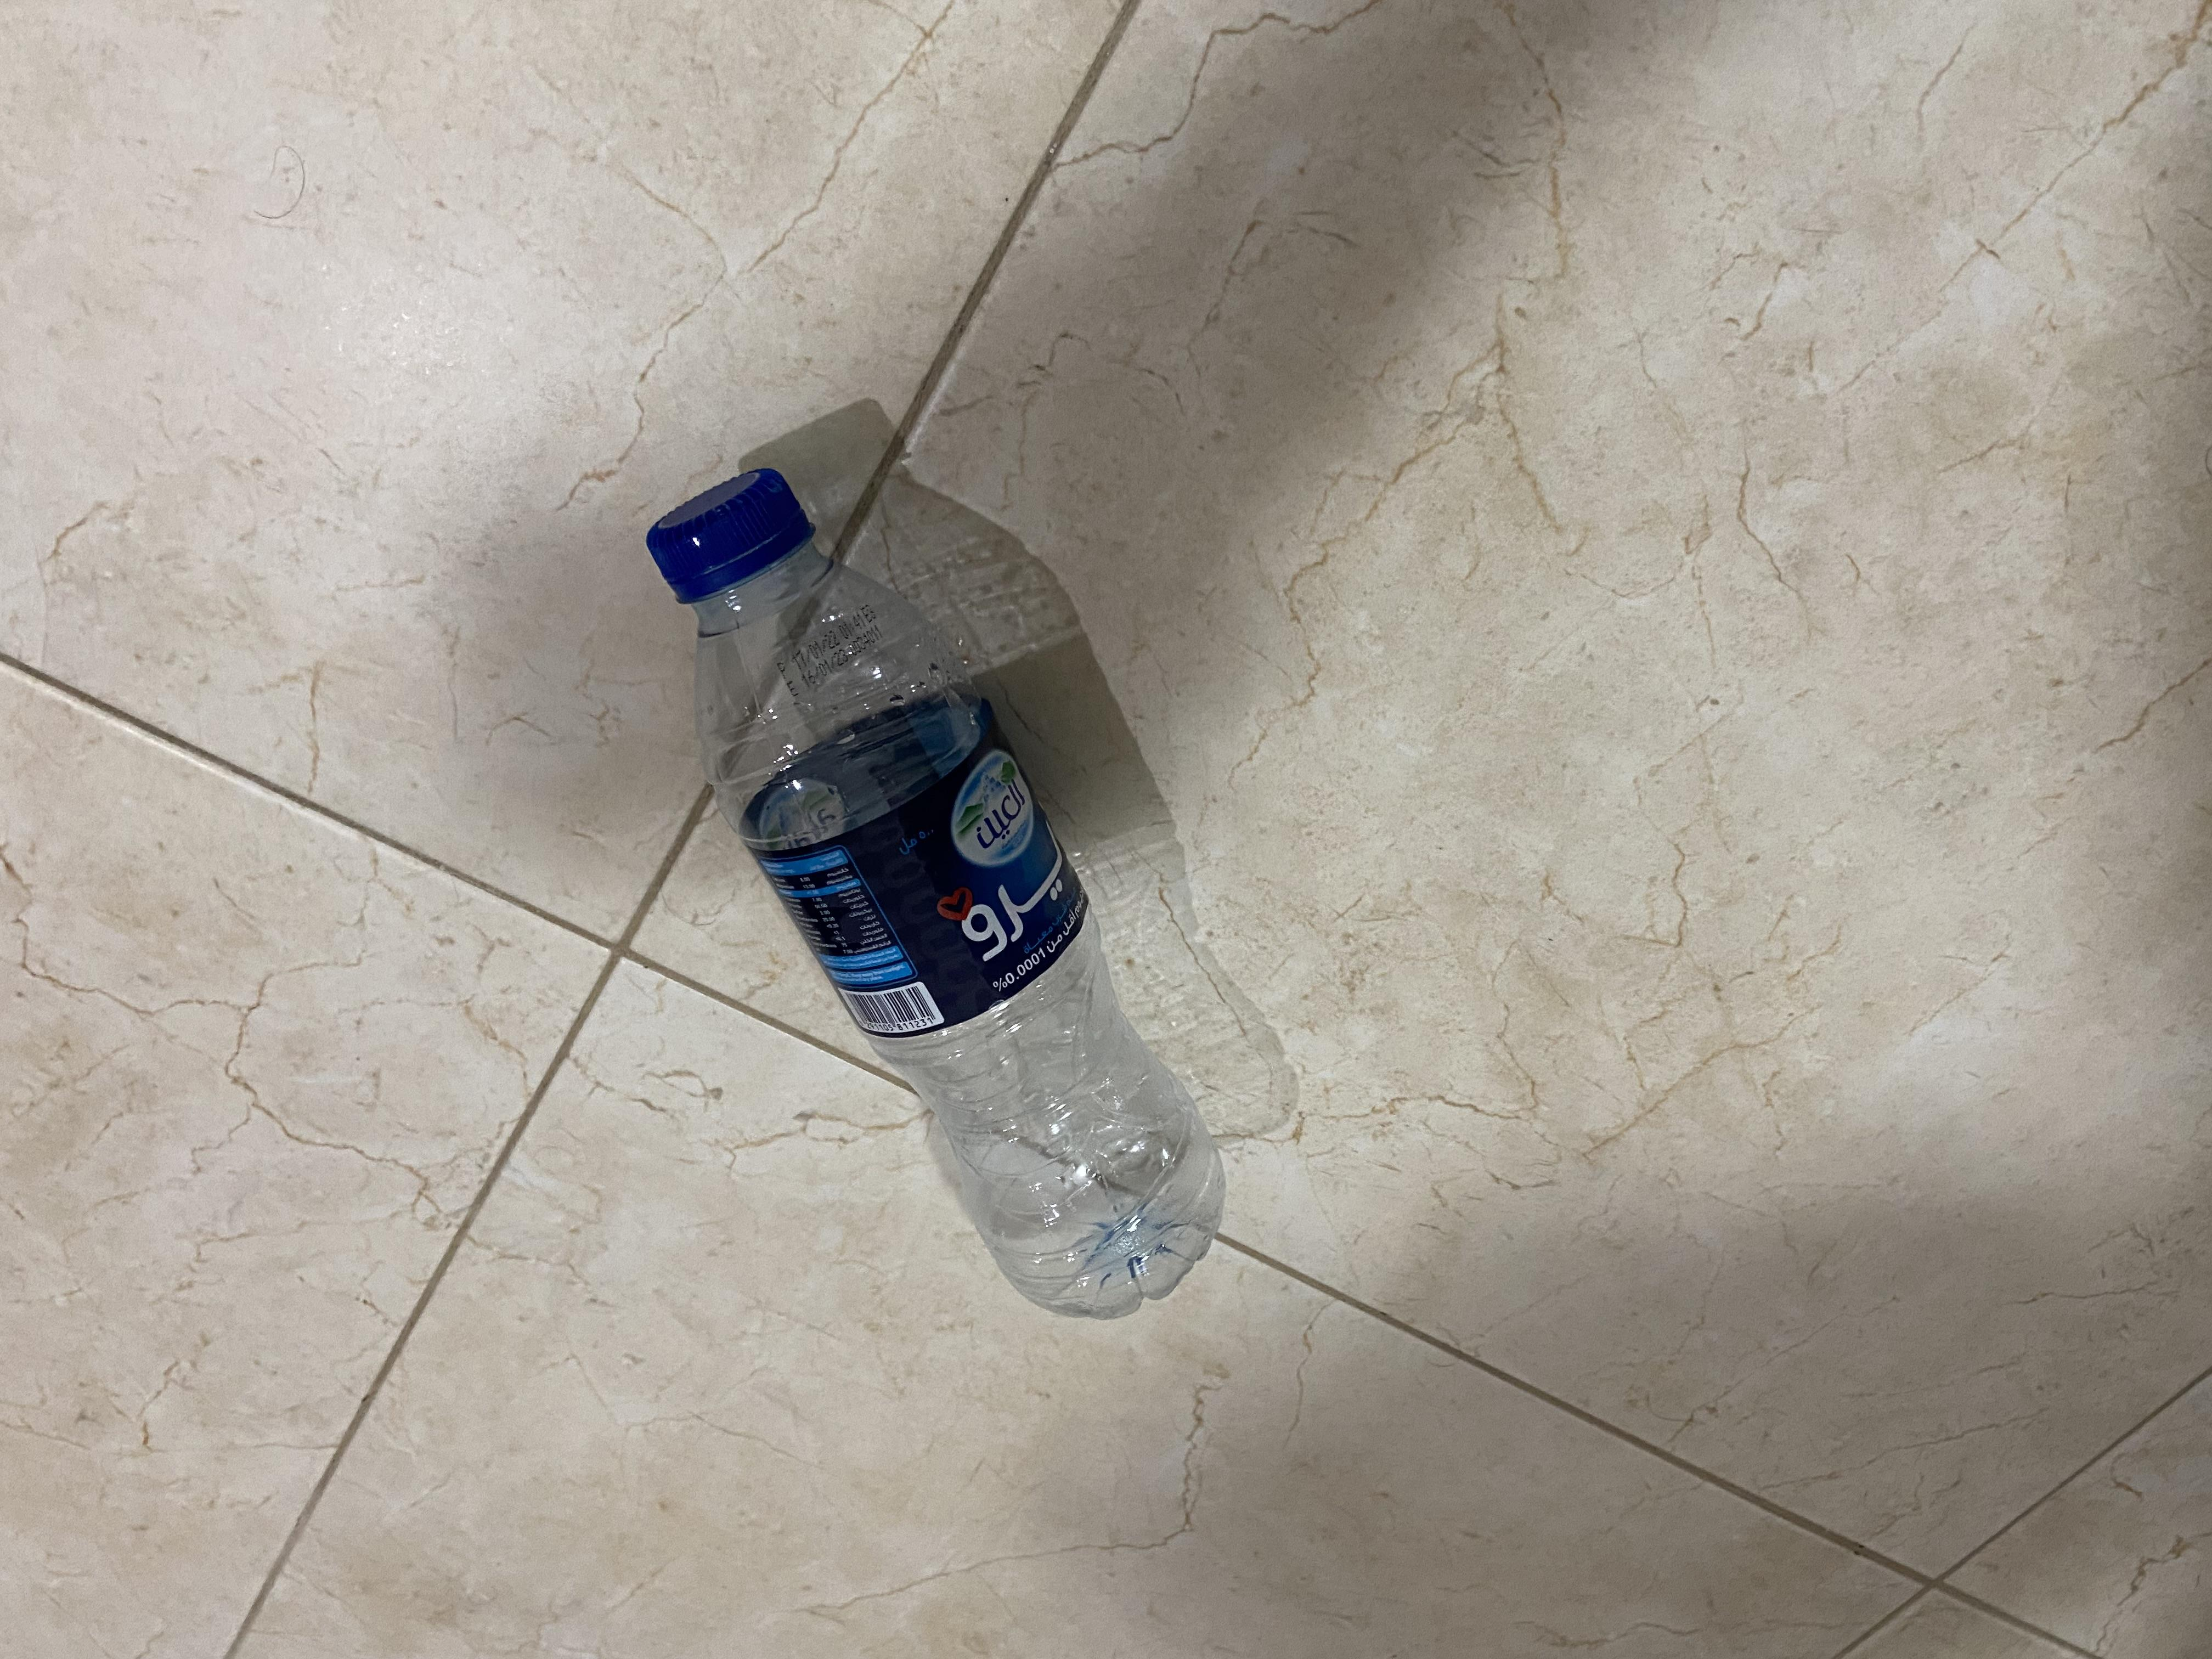bottle: (448, 453, 1604, 931)
